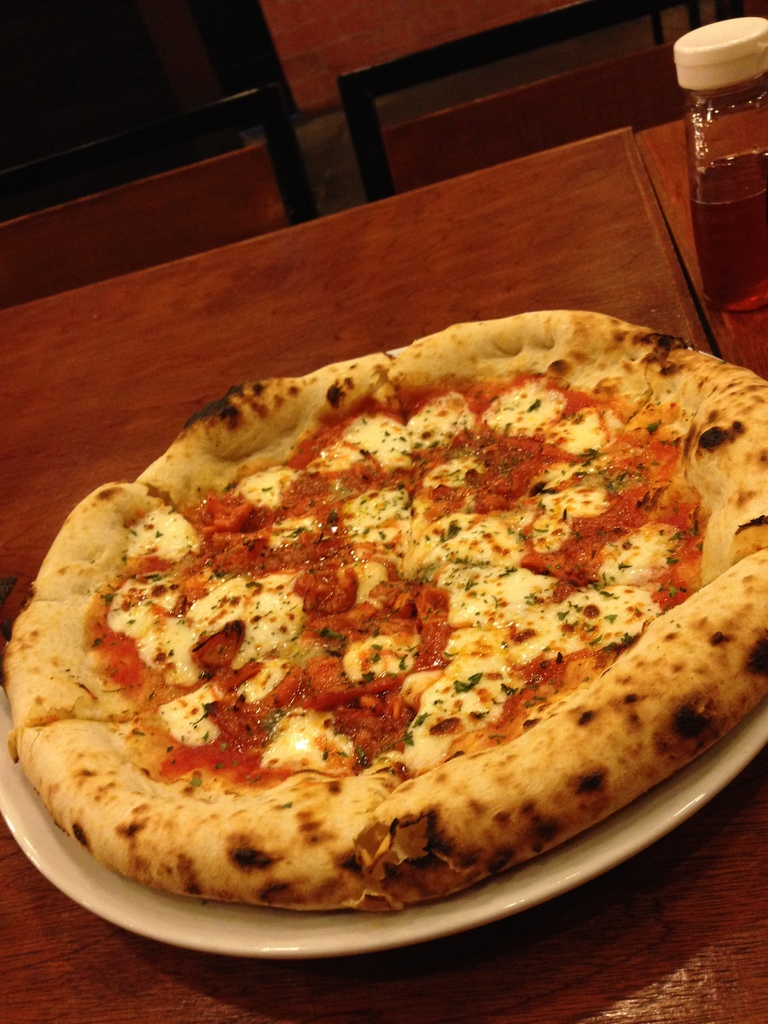Pizza: (0, 288, 767, 908)
